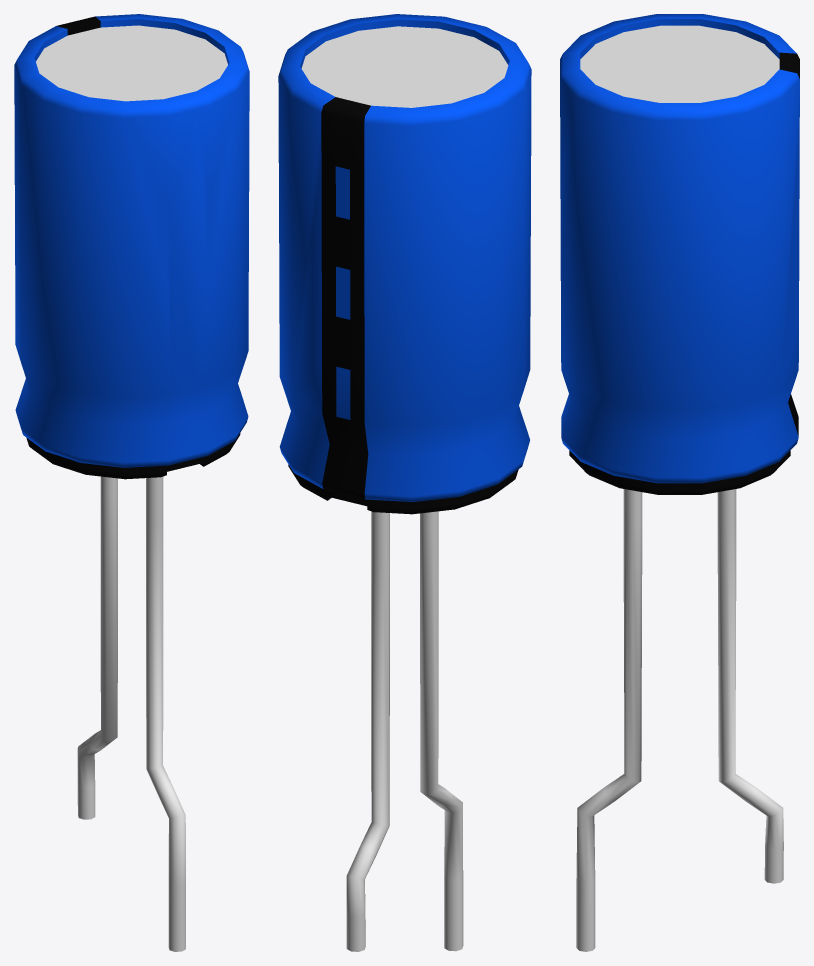
The model's file is capacitor_polarised.glb.
3 renders of one model, left to right at view 1: azimuth 30°, elevation 25°; view 2: azimuth 150°, elevation 25°; view 3: azimuth 270°, elevation 25°, orthographic. The views are drawn at different scales.
Visible parts, largest first — view 1: Capacitor-Cylindrical, Legs.001, Lid; view 2: Capacitor-Cylindrical, Legs.001, Lid; view 3: Capacitor-Cylindrical, Legs.001, Lid.
Part boxes in pixels (<box>): Capacitor-Cylindrical: <box>14,14,249,479</box>; Legs.001: <box>77,476,185,951</box>; Lid: <box>36,25,227,101</box>; Capacitor-Cylindrical: <box>278,14,531,514</box>; Legs.001: <box>346,511,463,951</box>; Lid: <box>301,26,508,107</box>; Capacitor-Cylindrical: <box>560,14,799,494</box>; Legs.001: <box>576,489,783,951</box>; Lid: <box>580,25,779,102</box>.
Size of the model in its own units: 0.00638 by 0.026 by 0.00638.
